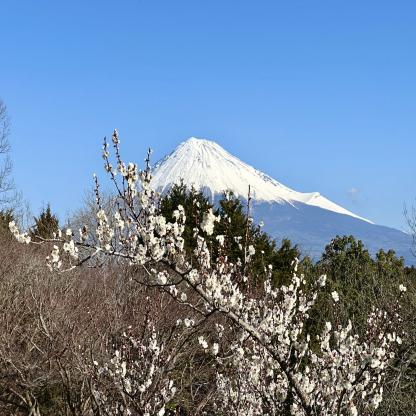Ume: (7, 119, 409, 416)
